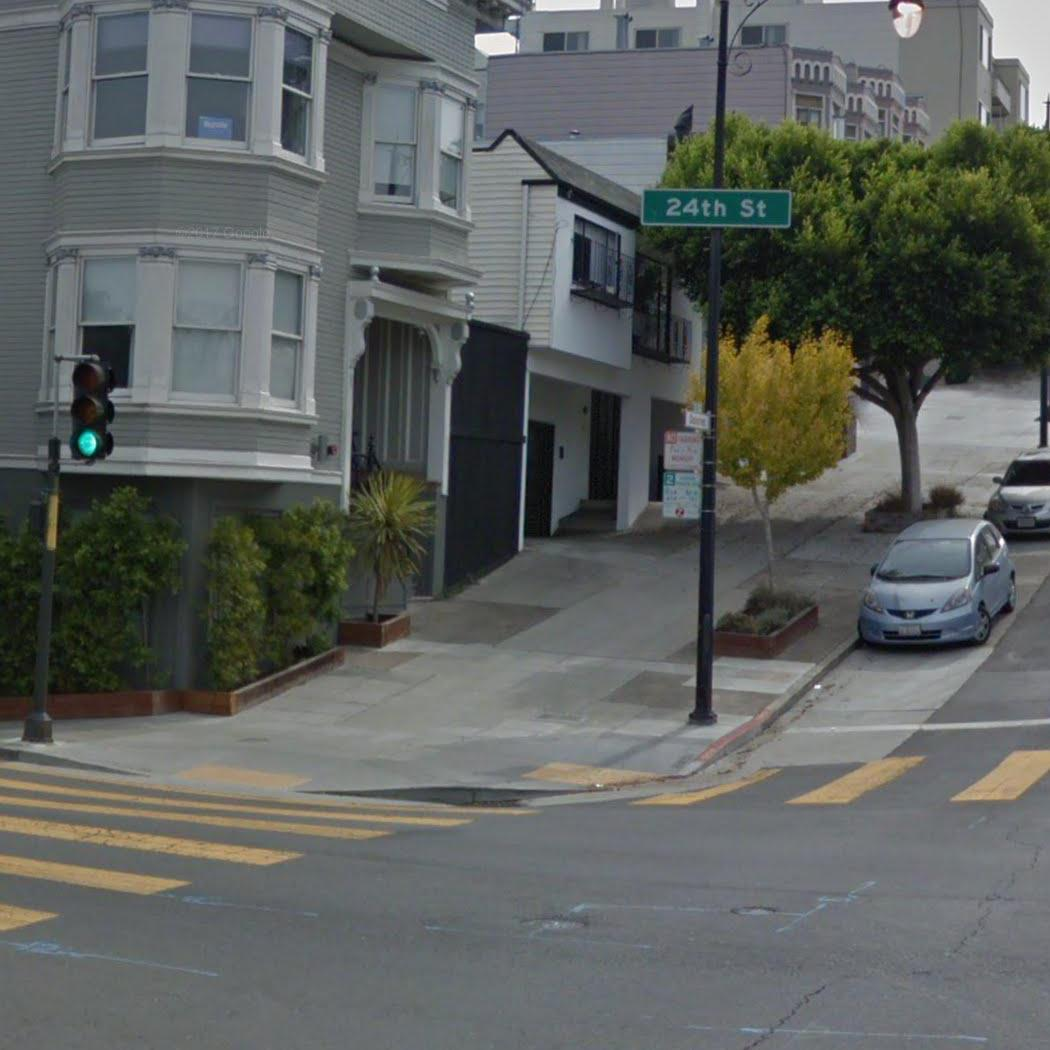2 Hour Parking: (659, 430, 707, 471)
No Parking: (659, 468, 705, 522)
